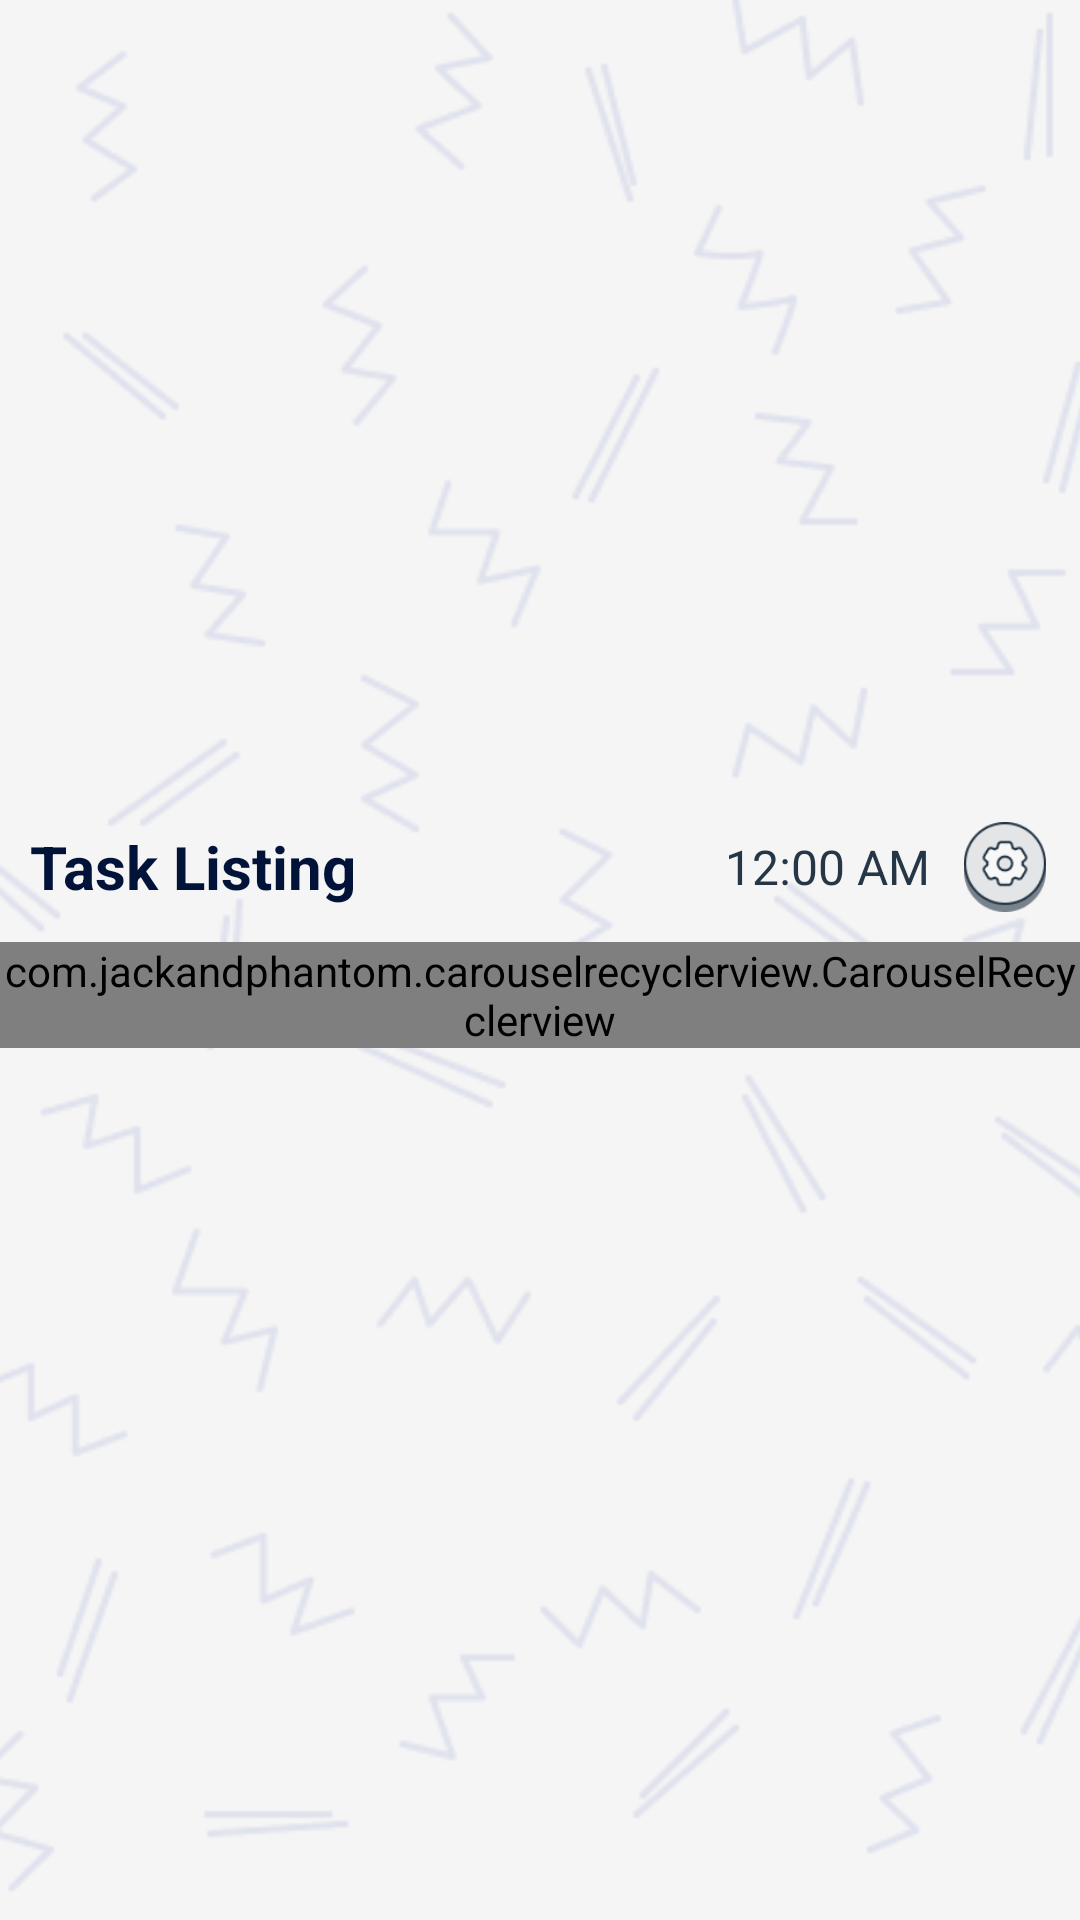

Icon click points for this 1080x1920 phone screenshot, format (x=x, y=y):
Settings: (x=1005, y=867)
